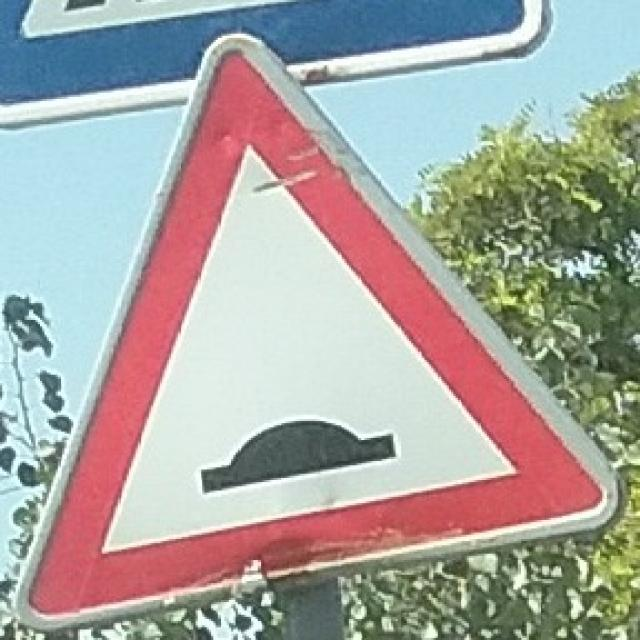HUMP_OR_ROUGH_ROAD: (19, 36, 620, 622)
